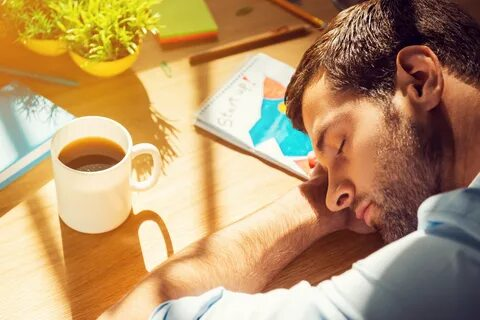sleep: (253, 1, 479, 320)
